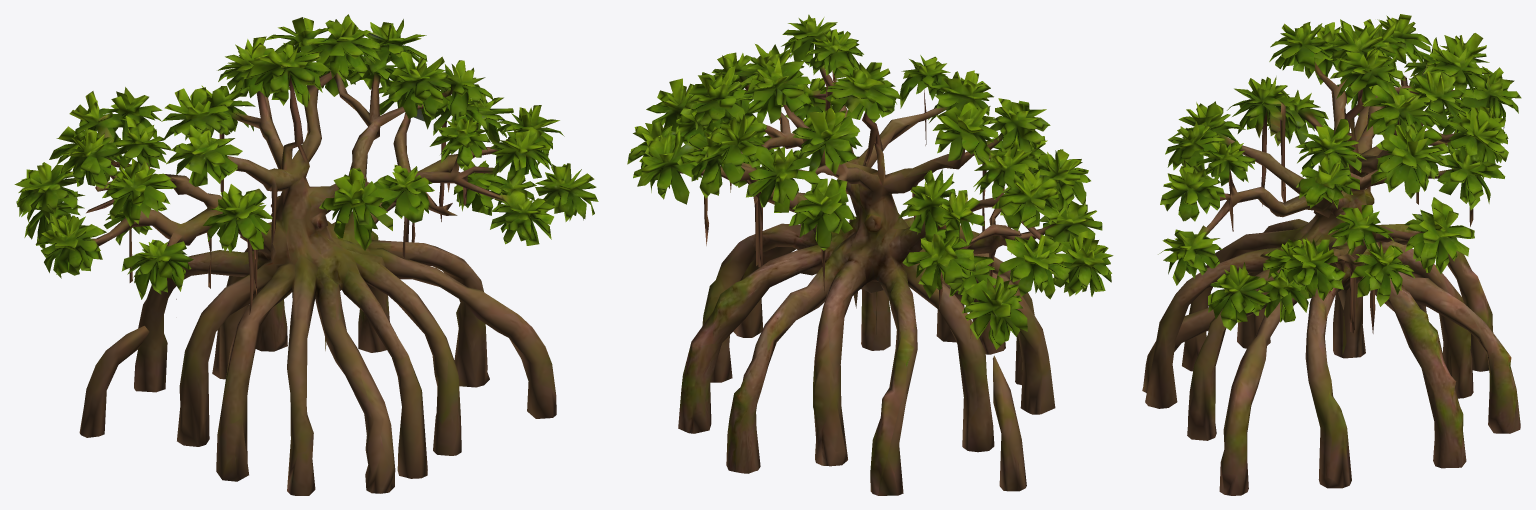
Rendered from env-mangrove1.glb.
3 renders of one model, left to right at view 1: azimuth 30°, elevation 25°; view 2: azimuth 150°, elevation 25°; view 3: azimuth 270°, elevation 25°, orthographic. The views are drawn at different scales.
Parts seen in each view (by area): view 1: tripo_node_53a769f7-3ebd-403a-8d92-6b85af40498e; view 2: tripo_node_53a769f7-3ebd-403a-8d92-6b85af40498e; view 3: tripo_node_53a769f7-3ebd-403a-8d92-6b85af40498e.
Boxes of the visible parts, <box> form: tripo_node_53a769f7-3ebd-403a-8d92-6b85af40498e: <box>14,14,598,495</box>; tripo_node_53a769f7-3ebd-403a-8d92-6b85af40498e: <box>627,14,1113,495</box>; tripo_node_53a769f7-3ebd-403a-8d92-6b85af40498e: <box>1142,14,1521,495</box>.
Bounding box in the file's own units: 0.992 × 0.7055 × 0.6869.
1 material, 1 textured.
